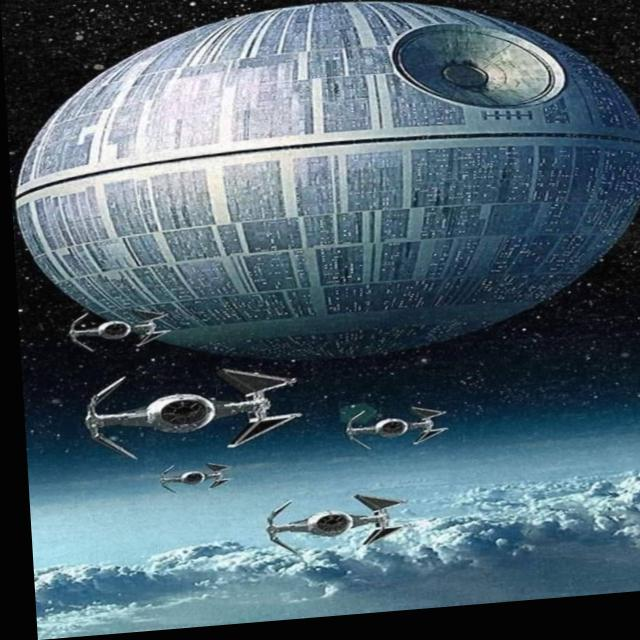deathStar: (2, 0, 640, 394)
